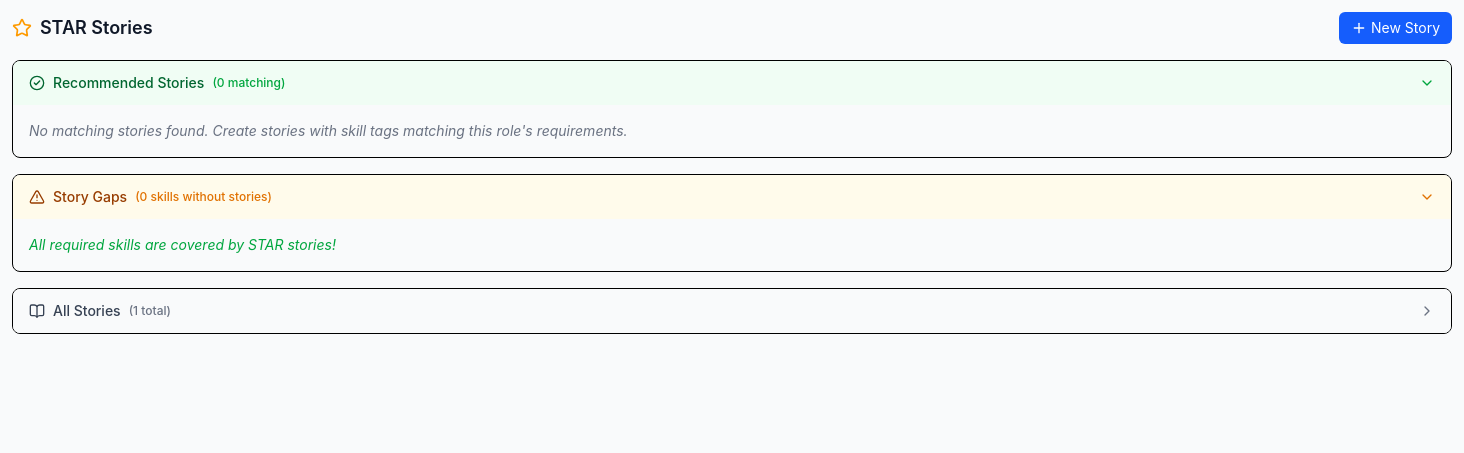
Test: StarStoriesSection › VAL-STAR-001: CRUD rendering › shows stories in All Stories section
Expected: the text "All Stories" is shown, left=53, top=302, right=121, bottom=319
Click the button "All Stories (1 total)" at (87, 310), box left=13, top=289, right=1451, bottom=333
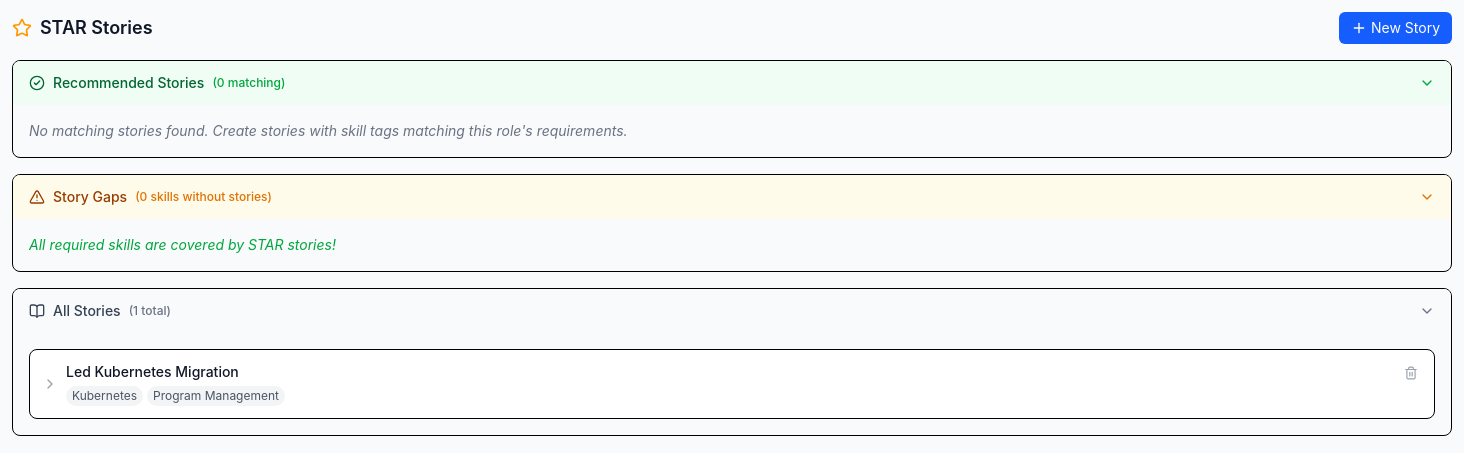
Expected: the heading "Led Kubernetes Migration" is shown, left=66, top=363, right=239, bottom=380
